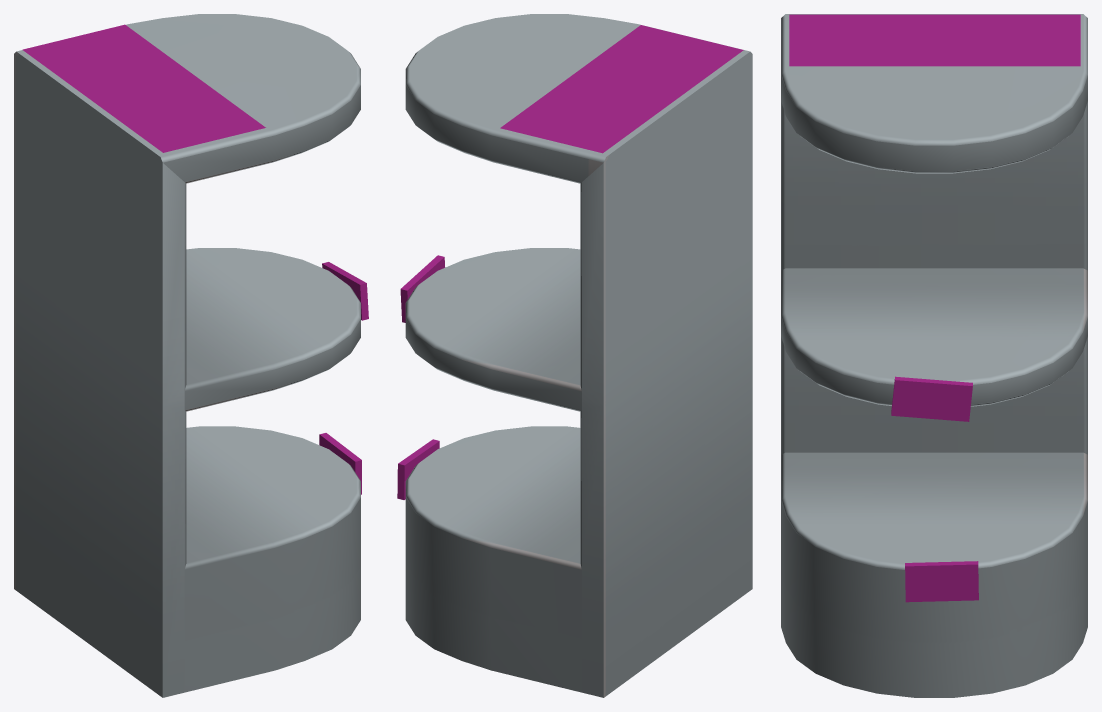
Rendered from Stella_circle_01.fbx.
3 renders of one model, left to right at view 1: azimuth 30°, elevation 25°; view 2: azimuth 150°, elevation 25°; view 3: azimuth 270°, elevation 25°, orthographic. The views are drawn at different scales.
Visible parts, largest first — view 1: stella_circle_01, makrs_stella_circle; view 2: stella_circle_01, makrs_stella_circle; view 3: stella_circle_01, makrs_stella_circle.
Boxes of the visible parts, x1,y1,x2,y2 form: stella_circle_01: (14,14,360,697); makrs_stella_circle: (22,24,368,494); stella_circle_01: (405,14,752,697); makrs_stella_circle: (397,25,743,499); stella_circle_01: (781,14,1087,697); makrs_stella_circle: (789,14,1080,602).
Bounding box in the file's own units: 101 × 100 × 201.
